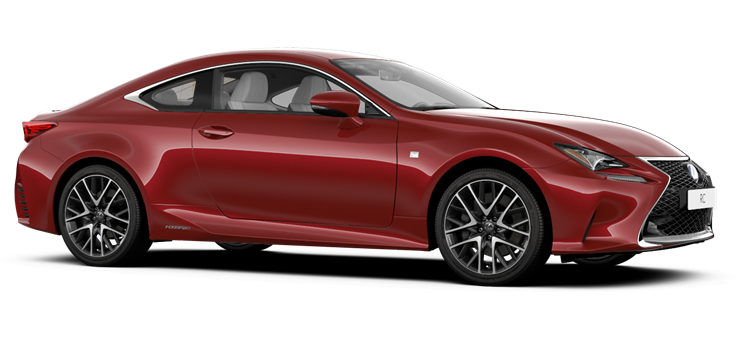car: (12, 44, 726, 296)
